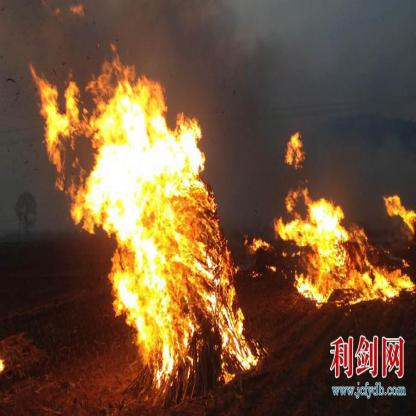fire: (20, 36, 256, 391), (270, 133, 414, 309)
